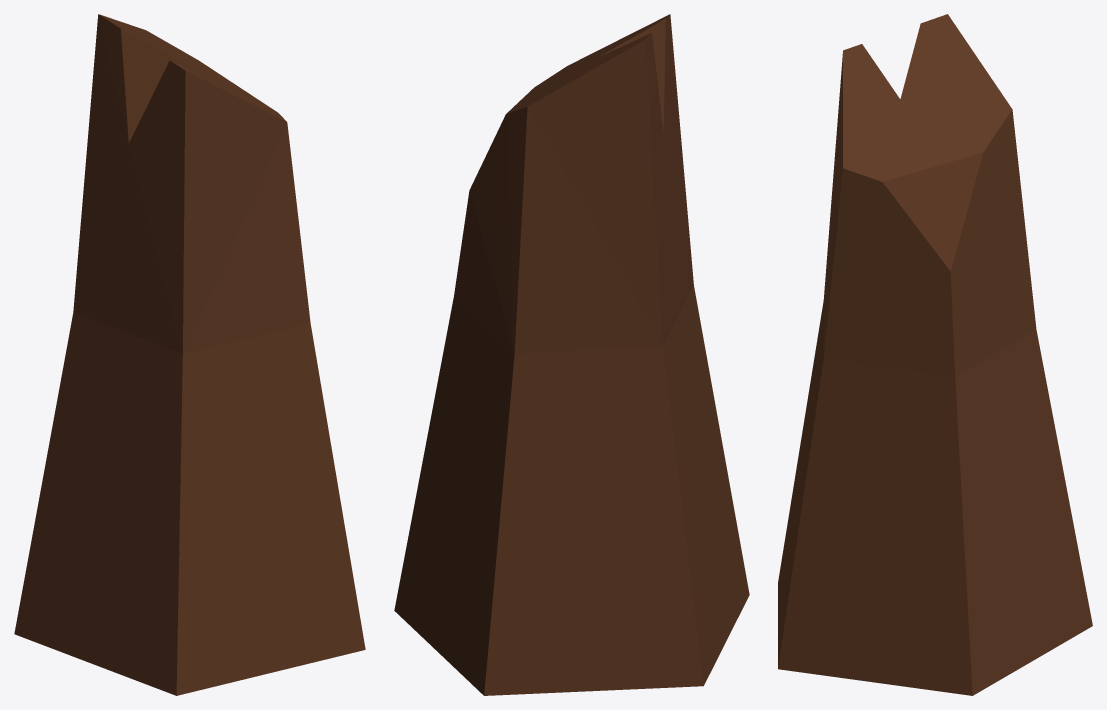
File: TreeStump1.fbx
3 renders of one model, left to right at view 1: azimuth 30°, elevation 25°; view 2: azimuth 150°, elevation 25°; view 3: azimuth 270°, elevation 25°, orthographic. The views are drawn at different scales.
Visible parts, largest first — view 1: TreeStump1; view 2: TreeStump1; view 3: TreeStump1.
Boxes of the visible parts, bbox=[...] form: TreeStump1: bbox=[14, 14, 365, 695]; TreeStump1: bbox=[394, 14, 749, 695]; TreeStump1: bbox=[778, 14, 1092, 695].
Size of the model in its own units: 54.4 by 104 by 51.74.
